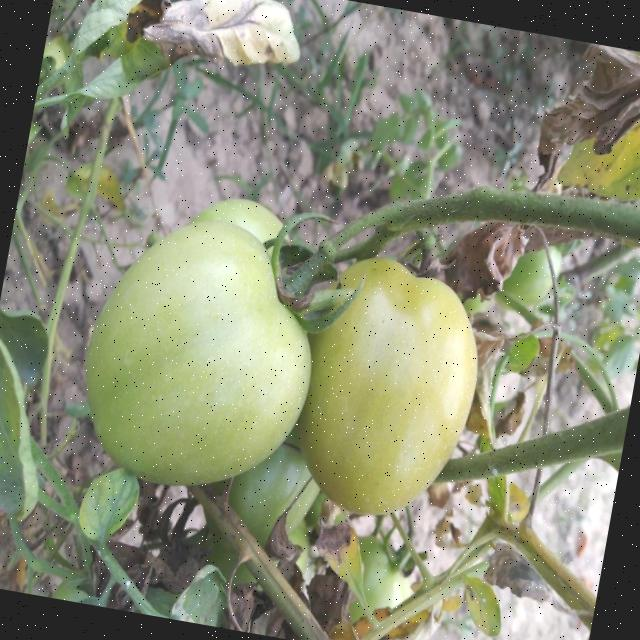Unripe: (65, 204, 334, 507), (278, 244, 496, 530)
